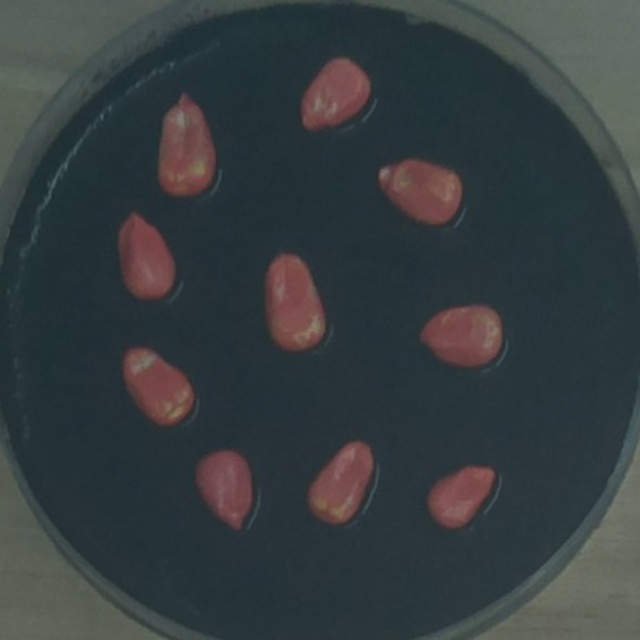Zea mays: (256, 244, 334, 358), (150, 83, 222, 202), (299, 432, 381, 534), (116, 338, 202, 435), (369, 151, 467, 233), (290, 50, 377, 140), (109, 205, 182, 309), (410, 298, 508, 375), (418, 455, 502, 535), (188, 442, 259, 535)
